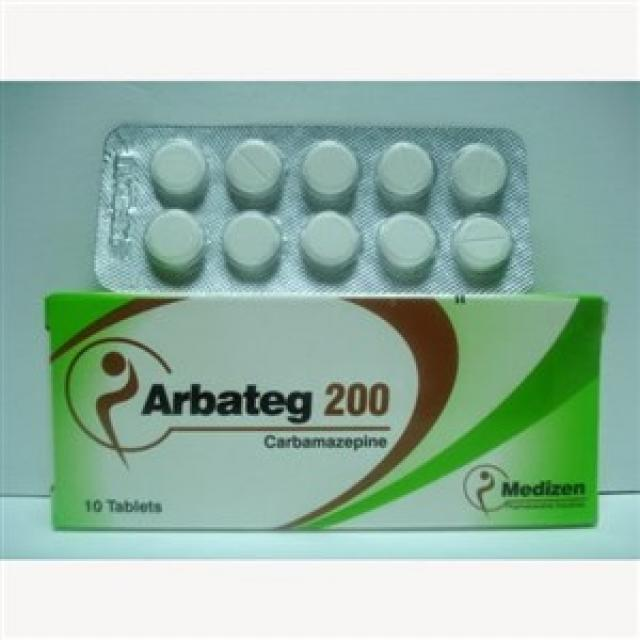drug-name: (140, 380, 389, 425)
